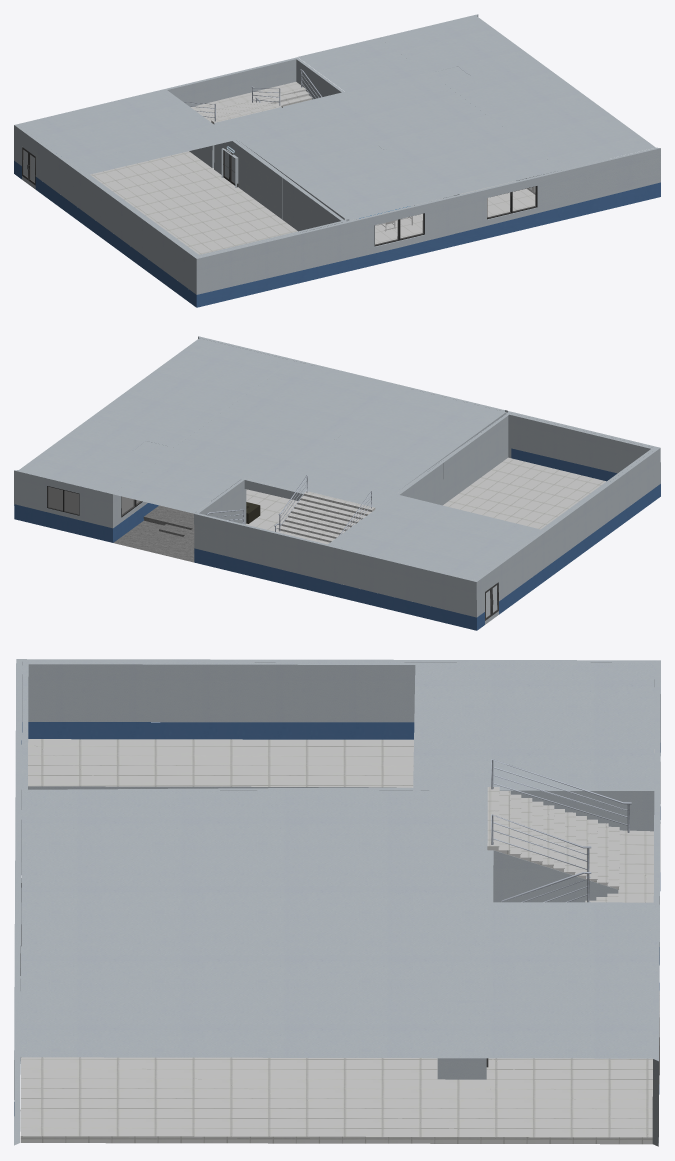
File: Deportivo-PBOP.glb
The picture shows the model from 3 angles, top to bottom: view 1: azimuth 30°, elevation 25°; view 2: azimuth 150°, elevation 25°; view 3: azimuth 270°, elevation 25°; orthographic projection. The views are drawn at different scales.
Visible parts, largest first — view 1: Paredes_DPB, escaleras.001, Viderio_DPB, Puertas_DPB, rail; view 2: Paredes_DPB, escaleras.001, entrada, Puertas_DPB, Viderio_DPB, rail; view 3: Paredes_DPB, escaleras.001, rail.
Part boxes in pixels (x1=…): Paredes_DPB: x1=14, y1=14, x2=660, y2=307; escaleras.001: x1=90, y1=82, x2=535, y2=256; Viderio_DPB: x1=23, y1=150, x2=535, y2=244; Puertas_DPB: x1=22, y1=147, x2=537, y2=246; rail: x1=184, y1=69, x2=321, y2=121; Paredes_DPB: x1=14, y1=336, x2=660, y2=630; escaleras.001: x1=197, y1=457, x2=606, y2=544; entrada: x1=113, y1=505, x2=195, y2=562; Puertas_DPB: x1=47, y1=486, x2=498, y2=620; Viderio_DPB: x1=48, y1=487, x2=497, y2=617; rail: x1=206, y1=475, x2=371, y2=535; Paredes_DPB: x1=14, y1=659, x2=660, y2=1146; escaleras.001: x1=20, y1=739, x2=654, y2=1144; rail: x1=491, y1=759, x2=631, y2=902.
Size of what is drawn, in the model's own units: 0.2528 by 0.0361 by 0.1734.
17 materials, 14 textured.
